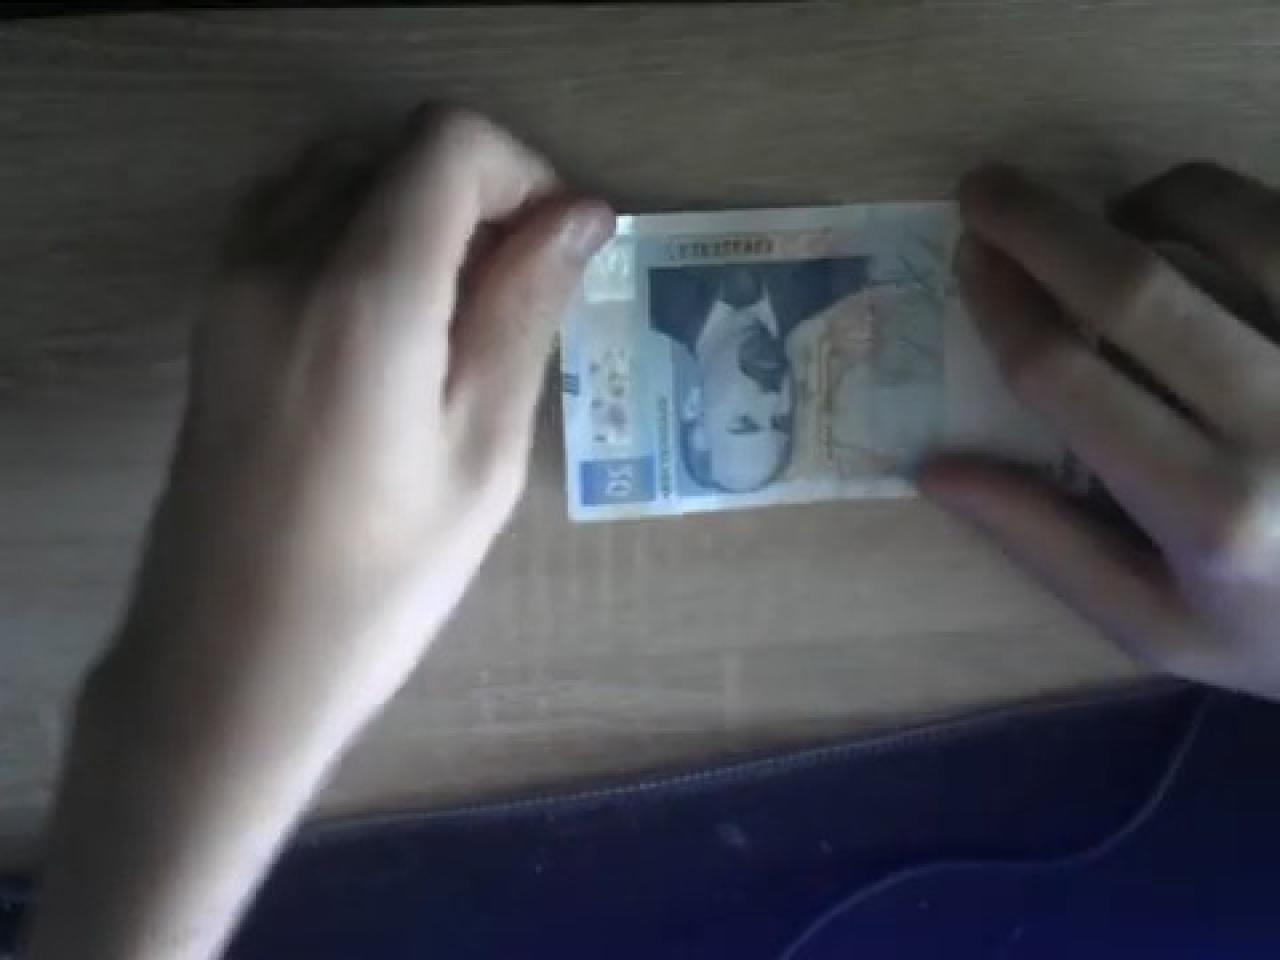20leva: (648, 256, 872, 493)
